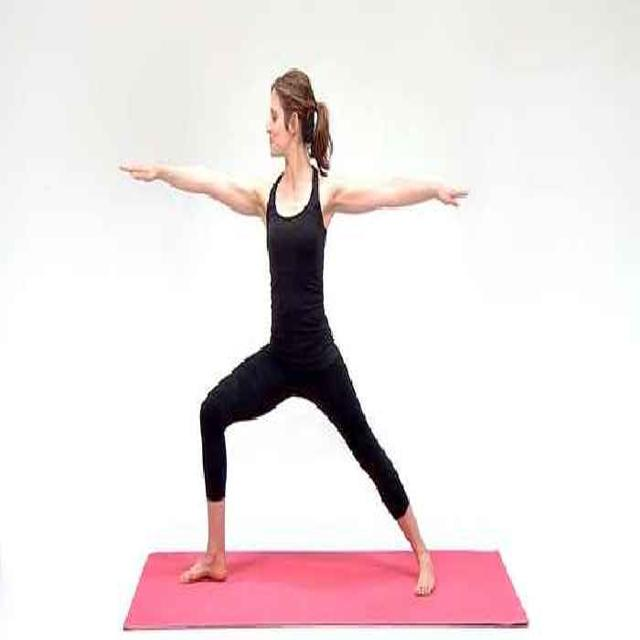Warrior_II: (112, 67, 472, 599)
